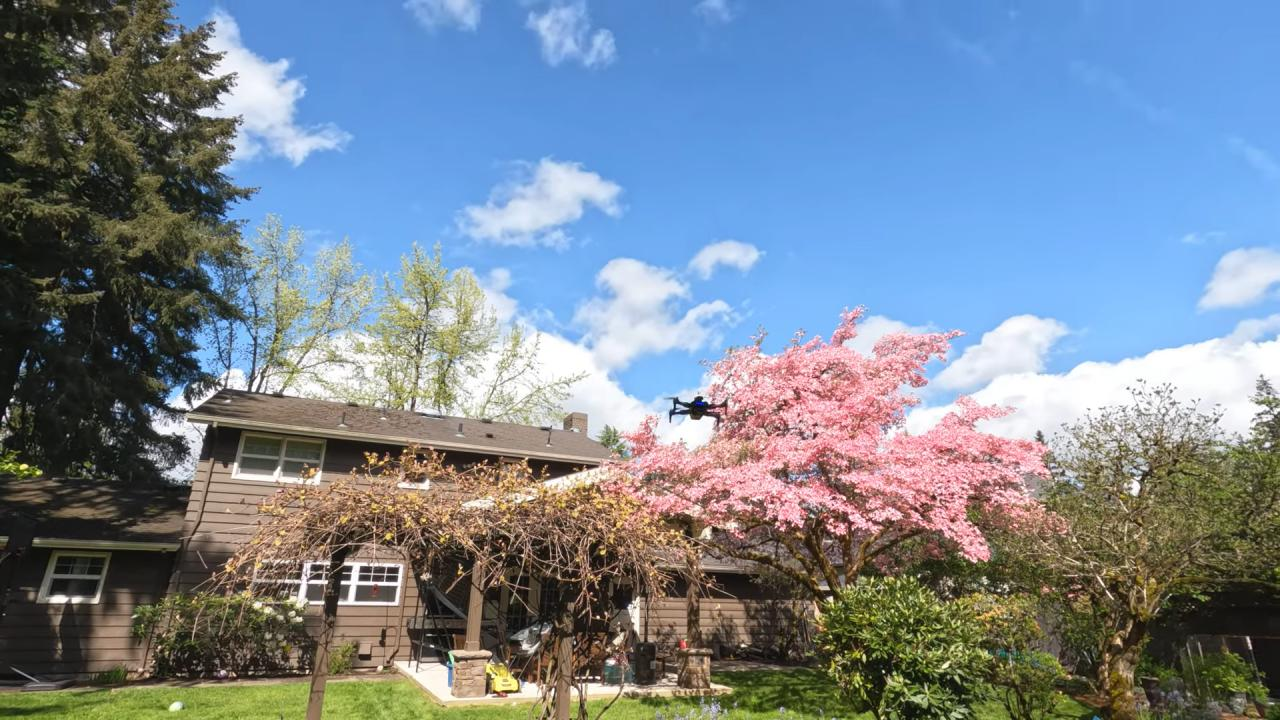Drone: (654, 381, 740, 440)
